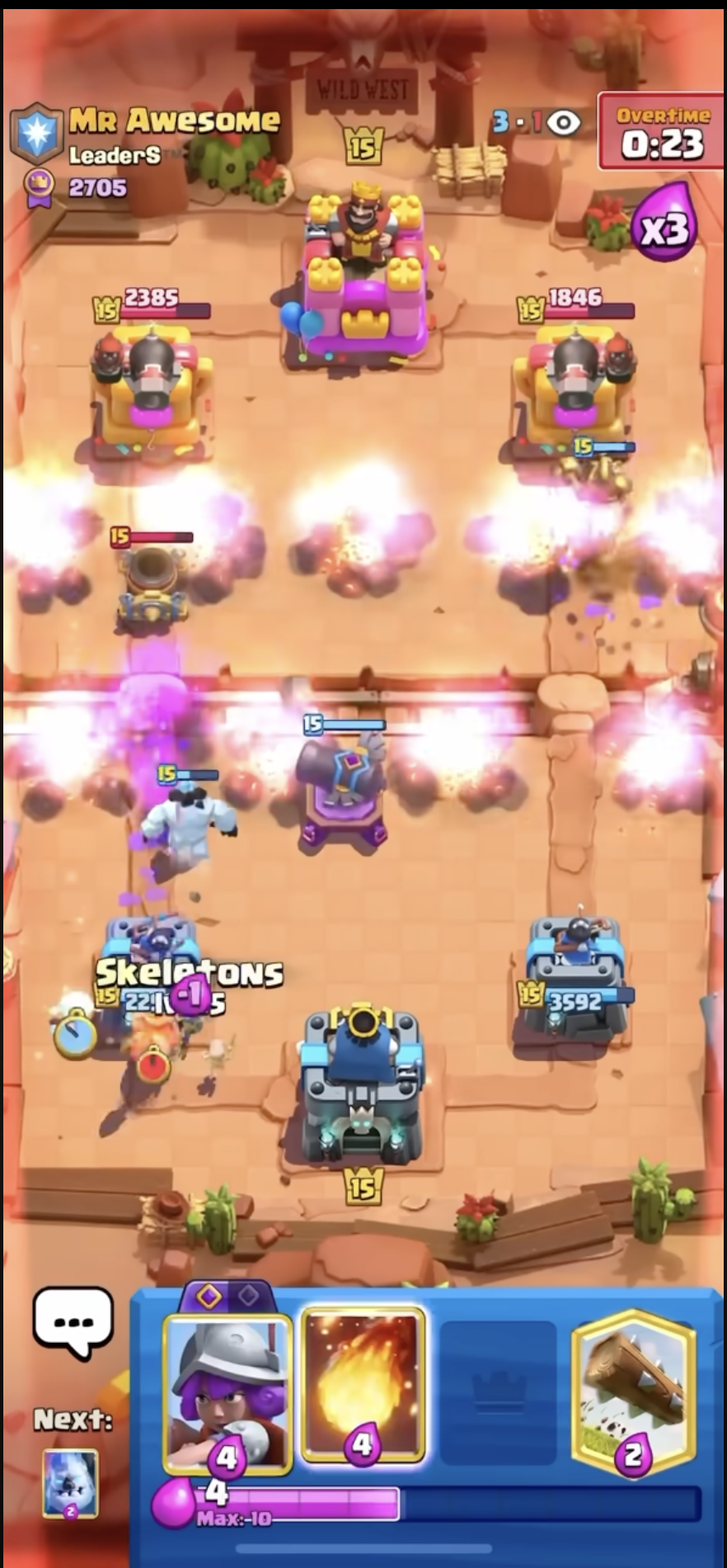evo_cannon: (286, 696, 406, 865)
hog_rider: (547, 443, 651, 555)
ice_golem: (137, 745, 257, 892)
ice_spirit: (44, 979, 101, 1053)
